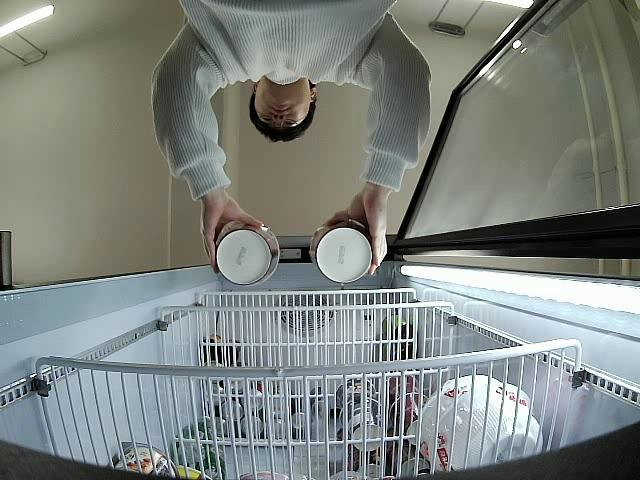00_hand: (321, 185, 389, 279), (199, 184, 264, 275)
05_nuguri_L: (212, 216, 281, 288), (310, 216, 374, 283)
